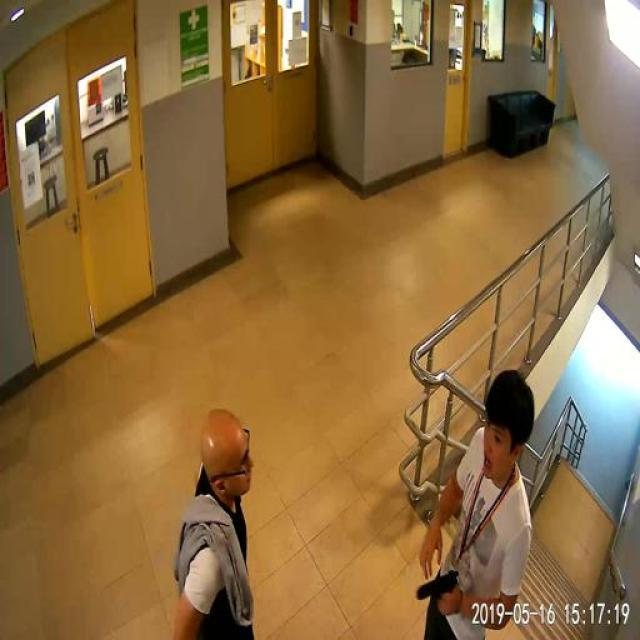Gun: (412, 569, 462, 617)
